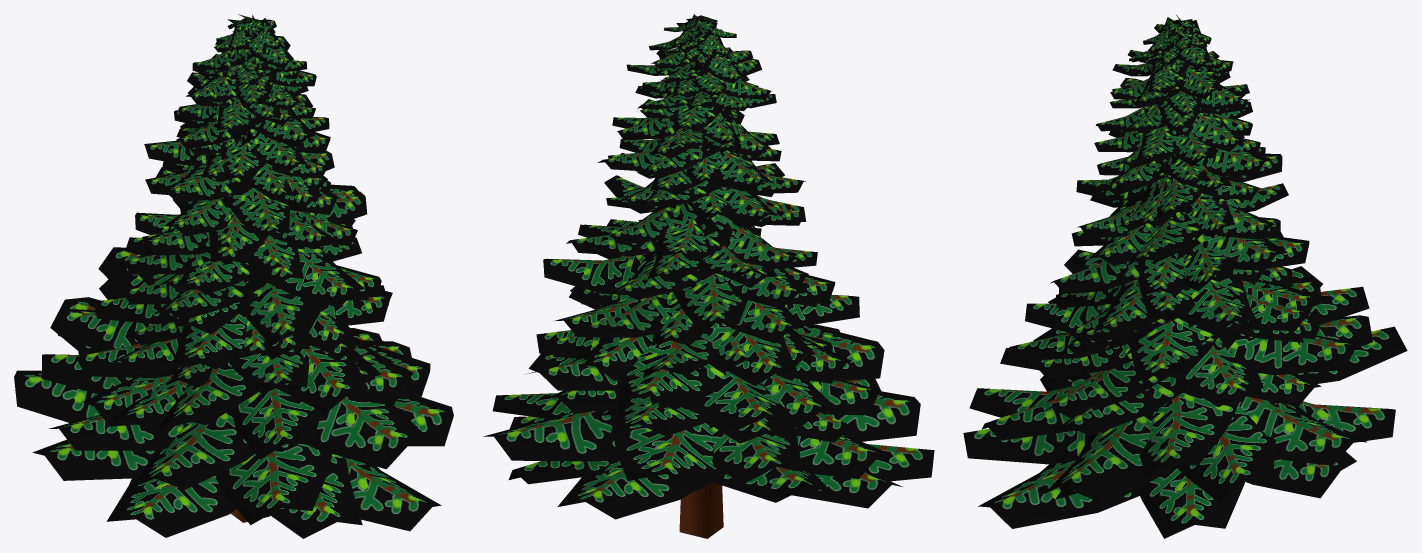
3 renders of one model, left to right at view 1: azimuth 30°, elevation 25°; view 2: azimuth 150°, elevation 25°; view 3: azimuth 270°, elevation 25°, orthographic. The views are drawn at different scales.
Parts seen in each view (by area): view 1: pineleaves.003, pineleaves.098, pineleaves.093, pineleaves.006, pineleaves.012, pineleaves.002, pineleaves.102, pineleaves.092, pineleaves.096, pineleaves.101, pineleaves, pineleaves.004 (+57 smaller); view 2: pineleaves.094, pineleaves.097, pineleaves.007, pineleaves.103, pineleaves.090, pineleaves.013, pineleaves.093, pineleaves.109, pineleaves, pineleaves.117, pineleaves.108, pineleaves.102 (+54 smaller); view 3: pineleaves.014, pineleaves.091, pineleaves.008, pineleaves.097, pineleaves.002, pineleaves.005, pineleaves.106, pineleaves.092, pineleaves.113, pineleaves.104, pineleaves.011, pineleaves.109 (+56 smaller).
Boxes of the visible parts, bbox=[...] form: pineleaves.003: bbox=[216, 444, 332, 524]; pineleaves.098: bbox=[306, 396, 426, 469]; pineleaves.093: bbox=[131, 410, 254, 489]; pineleaves.006: bbox=[106, 475, 236, 537]; pineleaves.012: bbox=[231, 388, 321, 459]; pineleaves.002: bbox=[344, 457, 441, 531]; pineleaves.102: bbox=[159, 299, 324, 427]; pineleaves.092: bbox=[269, 454, 362, 538]; pineleaves.096: bbox=[32, 439, 155, 480]; pineleaves.101: bbox=[277, 345, 368, 413]; pineleaves: bbox=[49, 415, 185, 450]; pineleaves.004: bbox=[14, 370, 100, 422]; pineleaves.094: bbox=[609, 407, 726, 491]; pineleaves.097: bbox=[483, 409, 618, 461]; pineleaves.007: bbox=[557, 457, 694, 519]; pineleaves.103: bbox=[618, 340, 725, 410]; pineleaves.090: bbox=[709, 424, 802, 483]; pineleaves.013: bbox=[702, 370, 791, 429]; pineleaves.093: bbox=[825, 391, 920, 441]; pineleaves.109: bbox=[543, 253, 695, 294]; pineleaves: bbox=[797, 434, 892, 478]; pineleaves.117: bbox=[655, 227, 761, 330]; pineleaves.108: bbox=[705, 321, 797, 386]; pineleaves.102: bbox=[793, 325, 884, 381]; pineleaves.014: bbox=[1139, 388, 1242, 476]; pineleaves.091: bbox=[1176, 401, 1275, 501]; pineleaves.008: bbox=[1044, 401, 1230, 496]; pineleaves.097: bbox=[1155, 396, 1367, 465]; pineleaves.002: bbox=[978, 460, 1139, 528]; pineleaves.005: bbox=[1137, 466, 1245, 538]; pineleaves.106: bbox=[1229, 333, 1364, 375]; pineleaves.092: bbox=[963, 428, 1089, 464]; pineleaves.113: bbox=[1129, 316, 1213, 381]; pineleaves.104: bbox=[1051, 330, 1240, 435]; pineleaves.011: bbox=[1042, 334, 1215, 417]; pineleaves.109: bbox=[1139, 278, 1257, 331].
Bounding box in the file's own units: 16.29 × 21.12 × 17.12.
2 materials, 2 textured.
